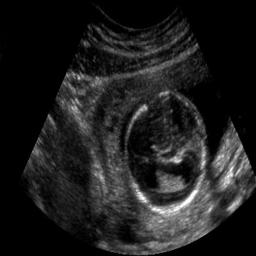abnormal: (128, 92, 212, 216)
